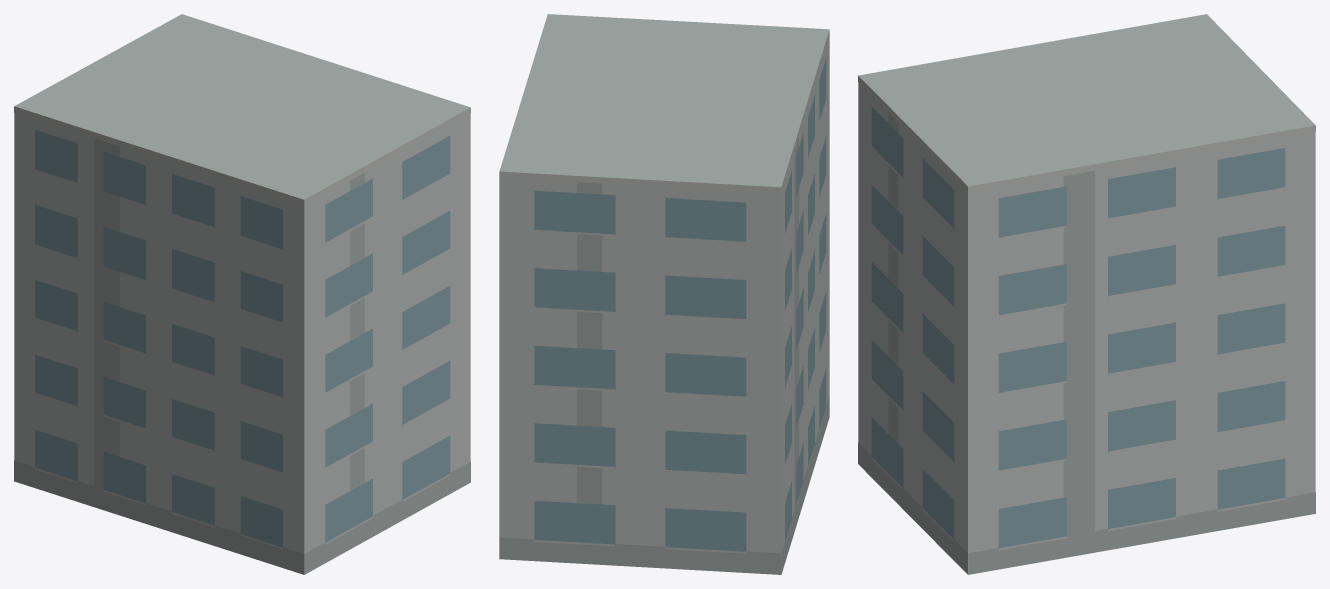
Rendered from survey-upis-32750459.glb.
The picture shows the model from 3 angles, left to right: view 1: azimuth 30°, elevation 25°; view 2: azimuth 150°, elevation 25°; view 3: azimuth 270°, elevation 25°; orthographic projection. The views are drawn at different scales.
Parts seen in each view (by area): view 1: survey-upis-32750459.tmp; view 2: survey-upis-32750459.tmp; view 3: survey-upis-32750459.tmp.
Part boxes in pixels (<box>): survey-upis-32750459.tmp: <box>14,14,470,574</box>; survey-upis-32750459.tmp: <box>499,14,829,574</box>; survey-upis-32750459.tmp: <box>858,14,1315,574</box>.
Bounding box in the file's own units: 13.77 × 14.45 × 15.44.
